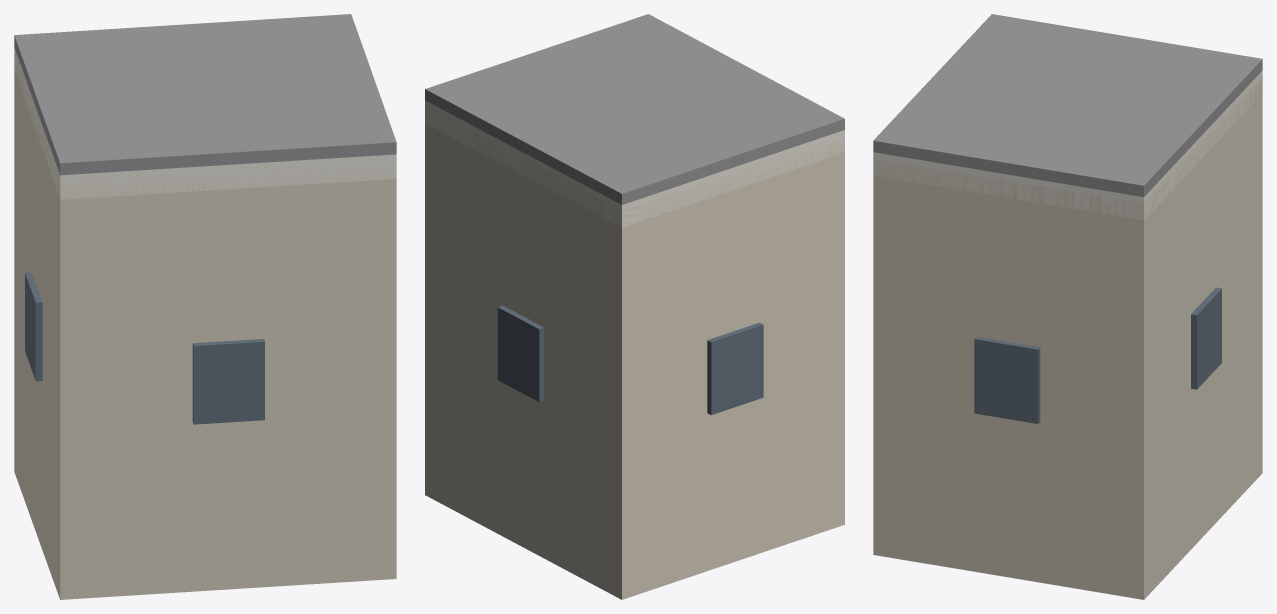
The model's file is s53_tile_tile__1__1_10.glb.
3 views of the same model, side by side, from view 1: azimuth 30°, elevation 25°; view 2: azimuth 150°, elevation 25°; view 3: azimuth 270°, elevation 25° (orthographic). The views are drawn at different scales.
Visible parts, largest first — view 1: mass, roofcap, cornice, win_3_0_0, win_2_0_0; view 2: mass, roofcap, cornice, win_2_0_0, win_1_0_0; view 3: mass, roofcap, cornice, win_0_0_0, win_1_0_0.
Part boxes in pixels (x1=…): mass: x1=14, y1=58, x2=396, y2=599; roofcap: x1=14, y1=14, x2=396, y2=175; cornice: x1=14, y1=48, x2=396, y2=199; win_3_0_0: x1=192, y1=339, x2=264, y2=424; win_2_0_0: x1=25, y1=272, x2=42, y2=381; mass: x1=425, y1=107, x2=844, y2=599; roofcap: x1=425, y1=14, x2=844, y2=204; cornice: x1=425, y1=100, x2=844, y2=227; win_2_0_0: x1=707, y1=322, x2=763, y2=415; win_1_0_0: x1=497, y1=305, x2=544, y2=402; mass: x1=873, y1=77, x2=1262, y2=599; roofcap: x1=873, y1=14, x2=1262, y2=196; cornice: x1=873, y1=71, x2=1262, y2=220; win_0_0_0: x1=974, y1=336, x2=1040, y2=423; win_1_0_0: x1=1191, y1=287, x2=1221, y2=389.
Size of the model in its own units: 7.43 by 8.35 by 7.12.
